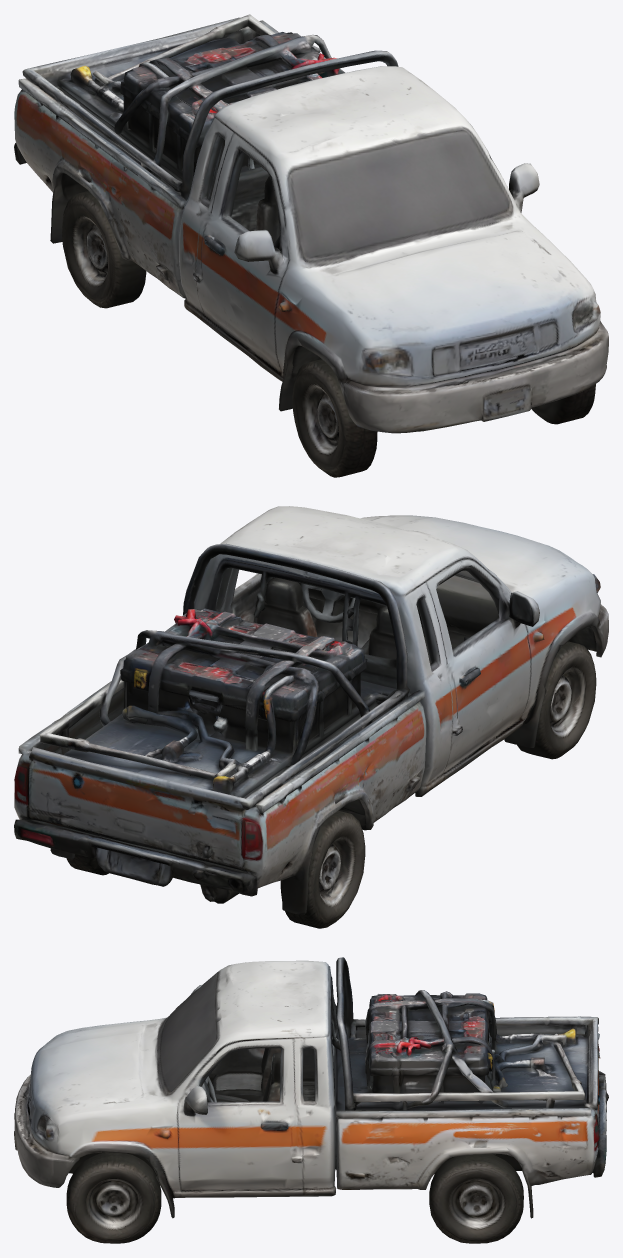
The model's file is utility_truck.fbx.
3 views of the same model, one above another, from view 1: azimuth 30°, elevation 25°; view 2: azimuth 150°, elevation 25°; view 3: azimuth 270°, elevation 25° (orthographic). The views are drawn at different scales.
Parts seen in each view (by area): view 1: utility_truck; view 2: utility_truck; view 3: utility_truck.
Part boxes in pixels (x1,y1,x2,y2): utility_truck: (14,14,608,477); utility_truck: (14,506,608,928); utility_truck: (14,957,608,1243).
Size of the model in its own units: 2.2 by 1.89 by 4.8.
Materials: 1 (1 with a texture image).
